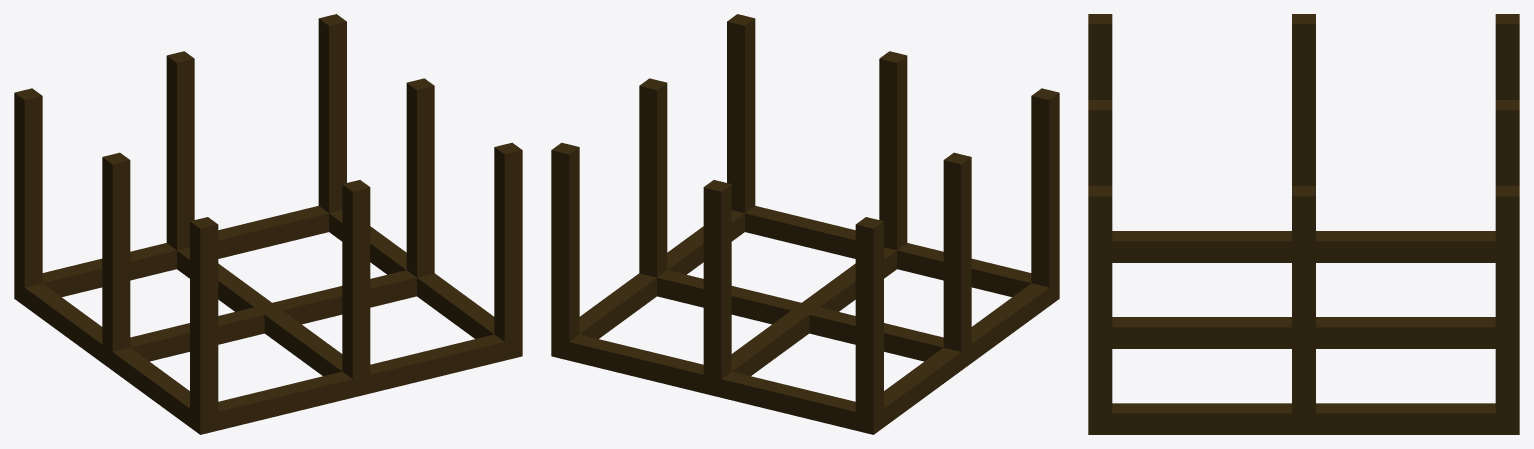
Rendered from temelj_2x2_sprat.FBX.
The picture shows the model from 3 angles, left to right: view 1: azimuth 30°, elevation 25°; view 2: azimuth 150°, elevation 25°; view 3: azimuth 270°, elevation 25°; orthographic projection. The views are drawn at different scales.
Visible parts, largest first — view 1: Object030; view 2: Object030; view 3: Object030.
Part boxes in pixels (x1,y1,x2,y2): Object030: [14, 14, 522, 434]; Object030: [551, 14, 1059, 434]; Object030: [1088, 14, 1519, 434].
Bounding box in the file's own units: 360 × 220 × 360.
